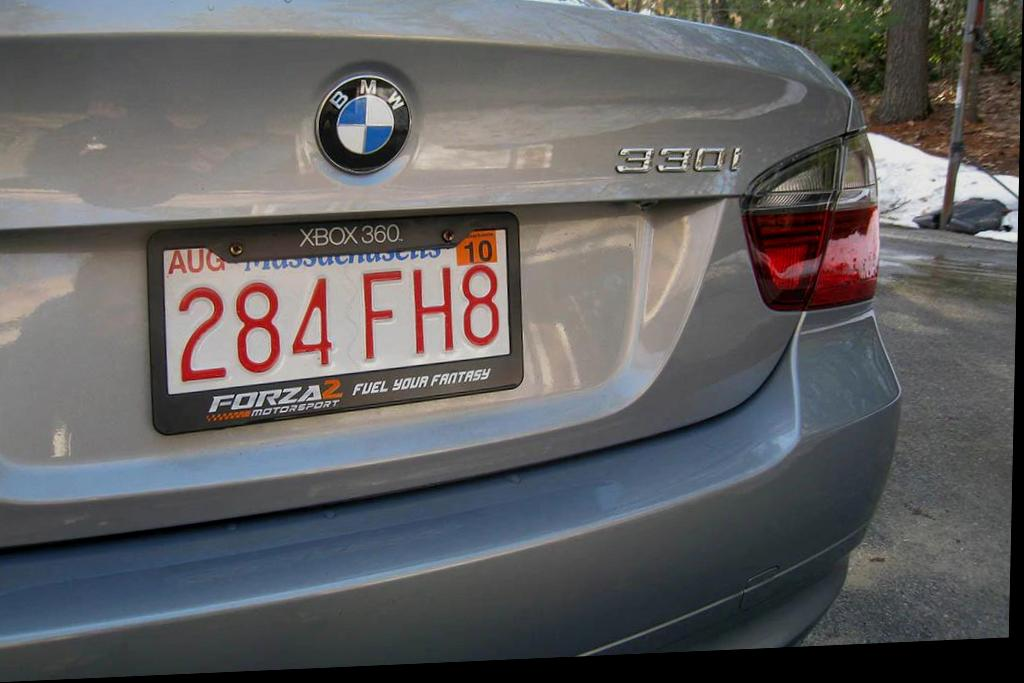License_Plate: (153, 232, 520, 383)
